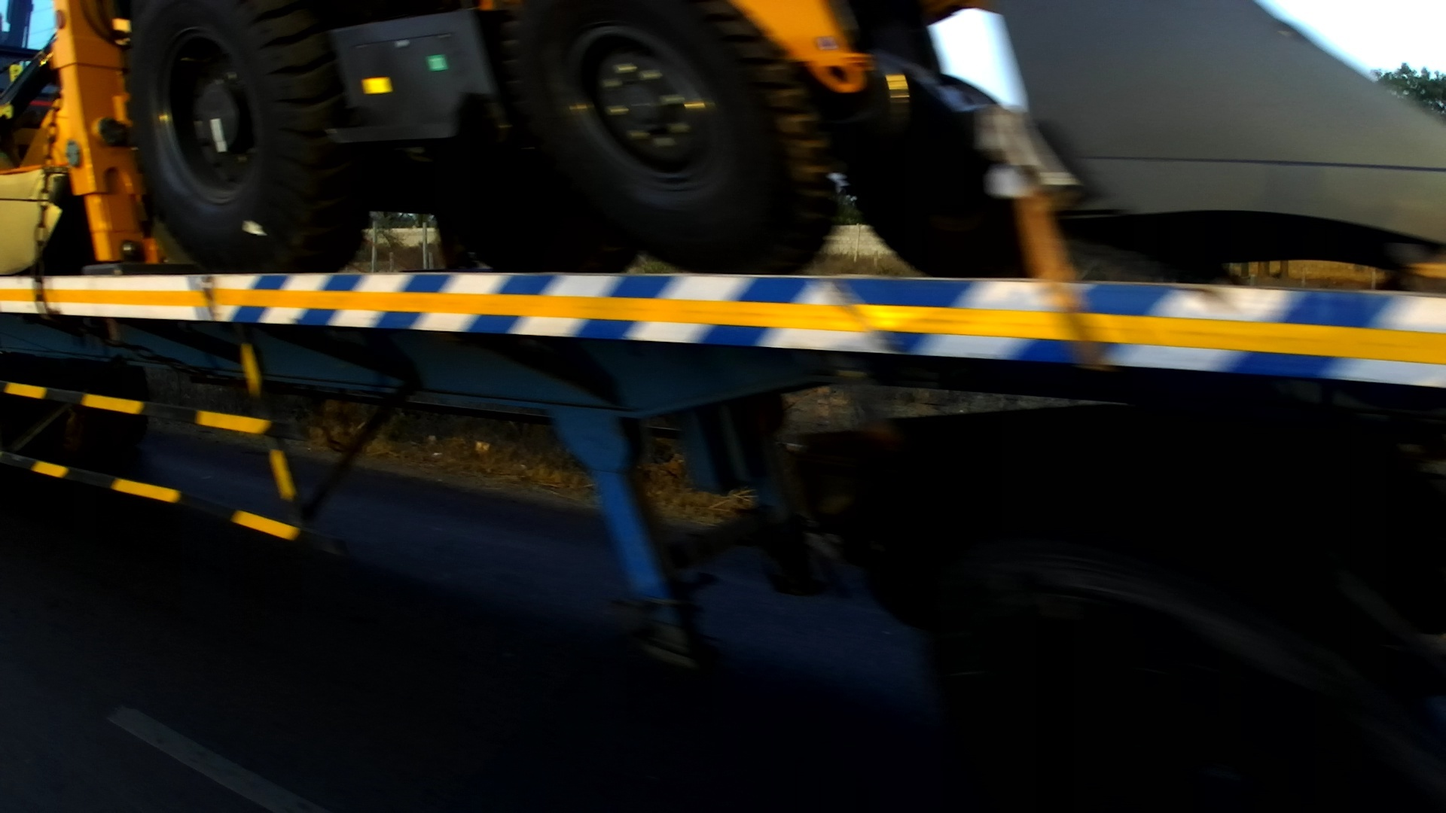vehicle fallback: (1, 1, 1446, 813)
